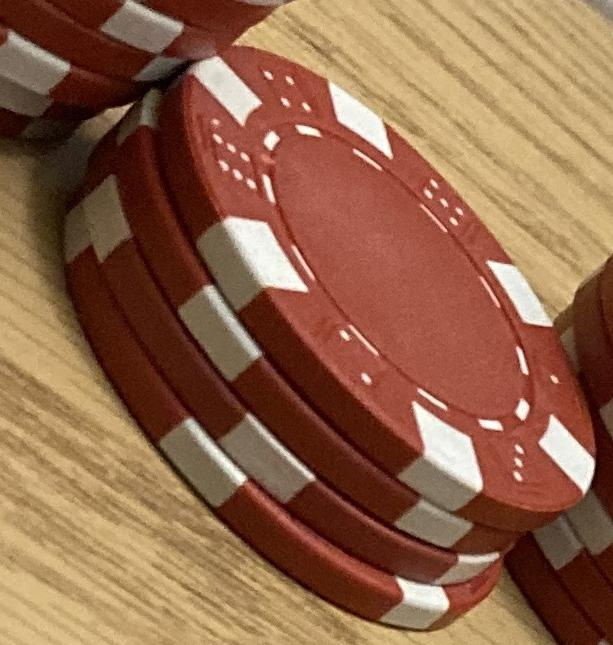Chip: (1, 1, 613, 645)
